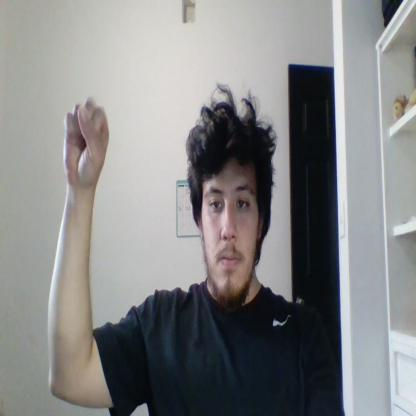S: (63, 96, 109, 190)
